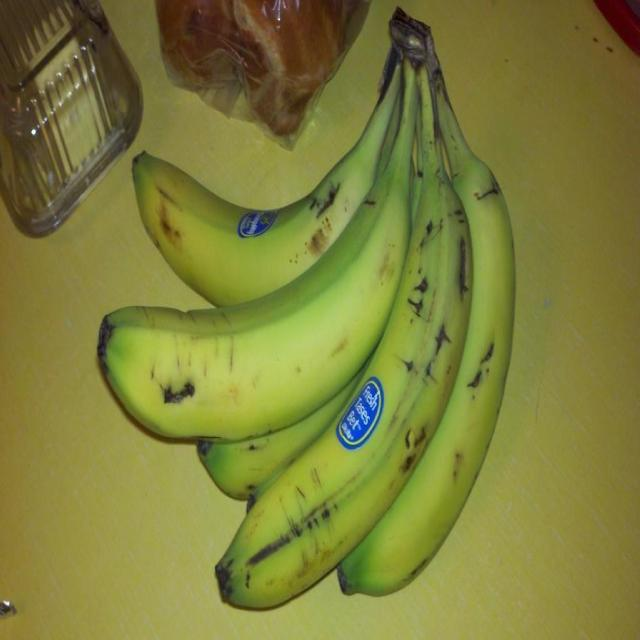banana: (214, 70, 475, 614), (104, 64, 414, 443), (335, 39, 516, 604), (131, 43, 402, 305)
